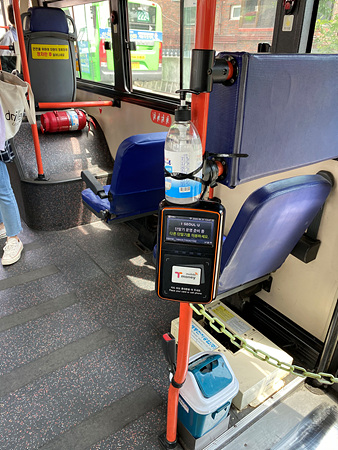terminal: (158, 197, 218, 303)
